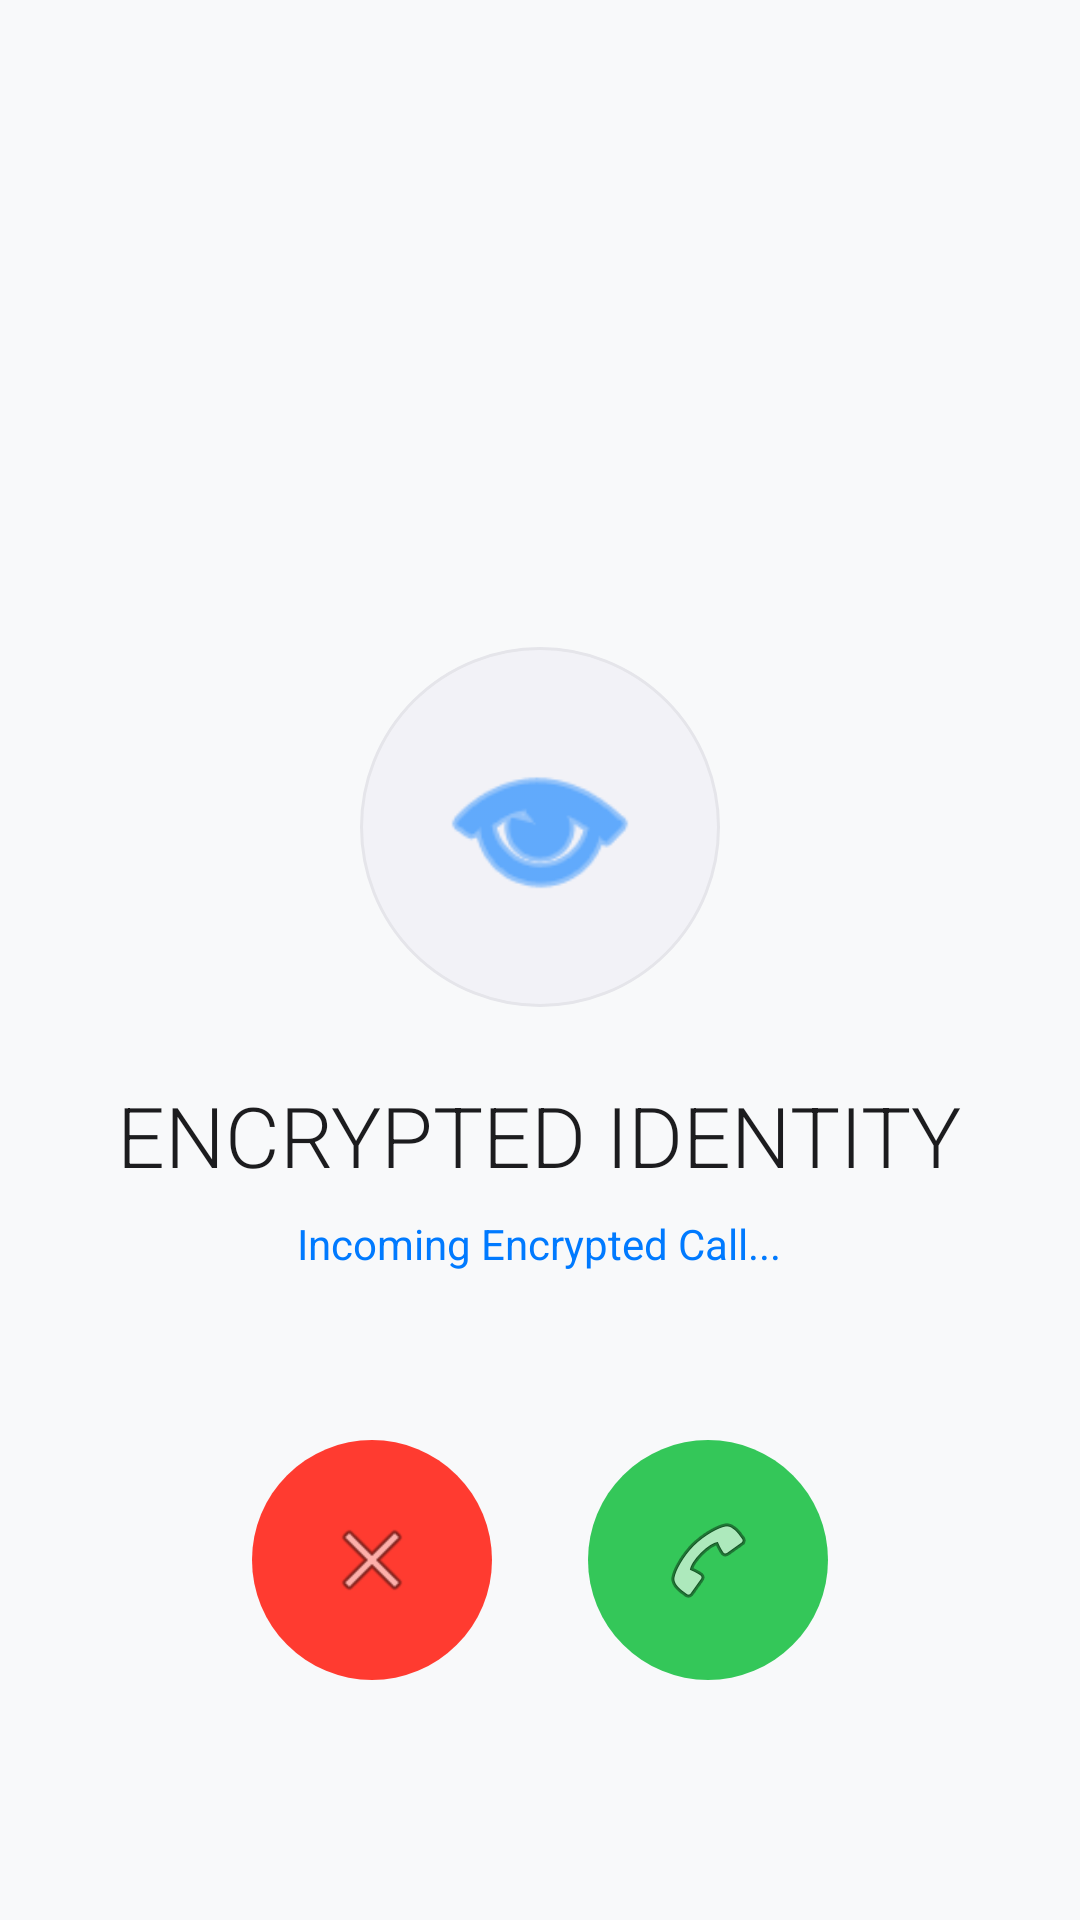

Icons on this 1080×1920 Android screen, each with the point to tap as [x,y]:
call: [708,1560]
close clear cancel: [372,1560]
view: [540,832]
